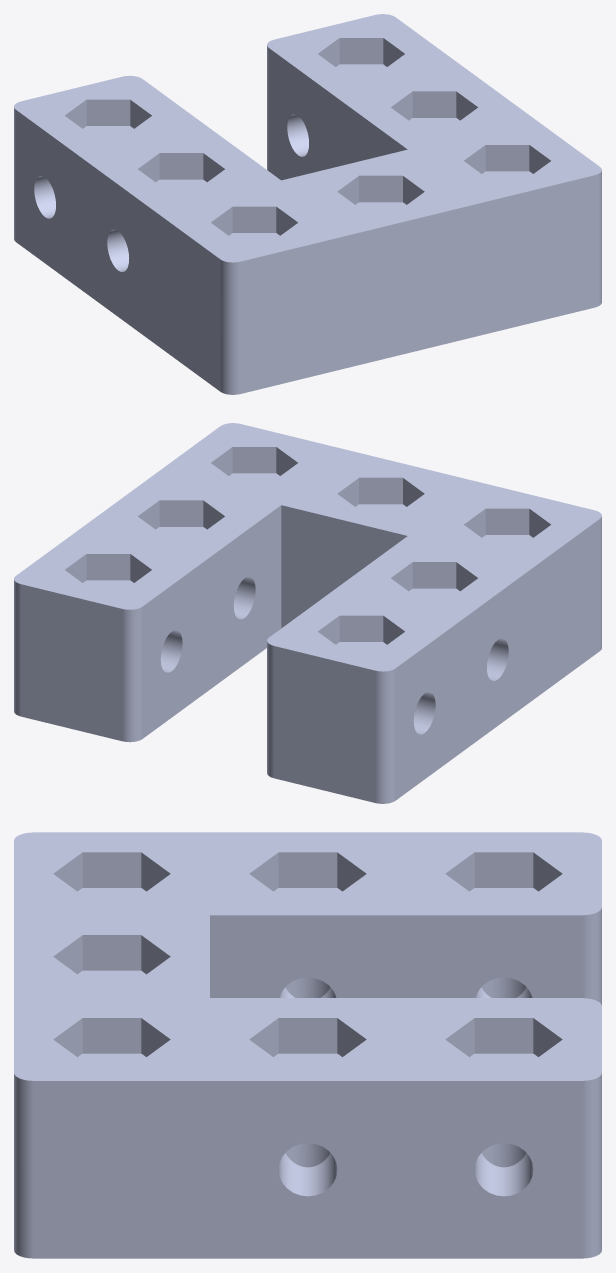
3 views of the same model, one above another, from view 1: azimuth 30°, elevation 25°; view 2: azimuth 150°, elevation 25°; view 3: azimuth 270°, elevation 25° (orthographic). The views are drawn at different scales.
Visible parts, largest first — view 1: U; view 2: U; view 3: U.
Part boxes in pixels (left/top/right/bottom): U: left=14, top=14, right=601, bottom=394; U: left=14, top=423, right=601, bottom=803; U: left=14, top=832, right=601, bottom=1258.
Size of the model in its own units: 0.03 by 0.01 by 0.03.
